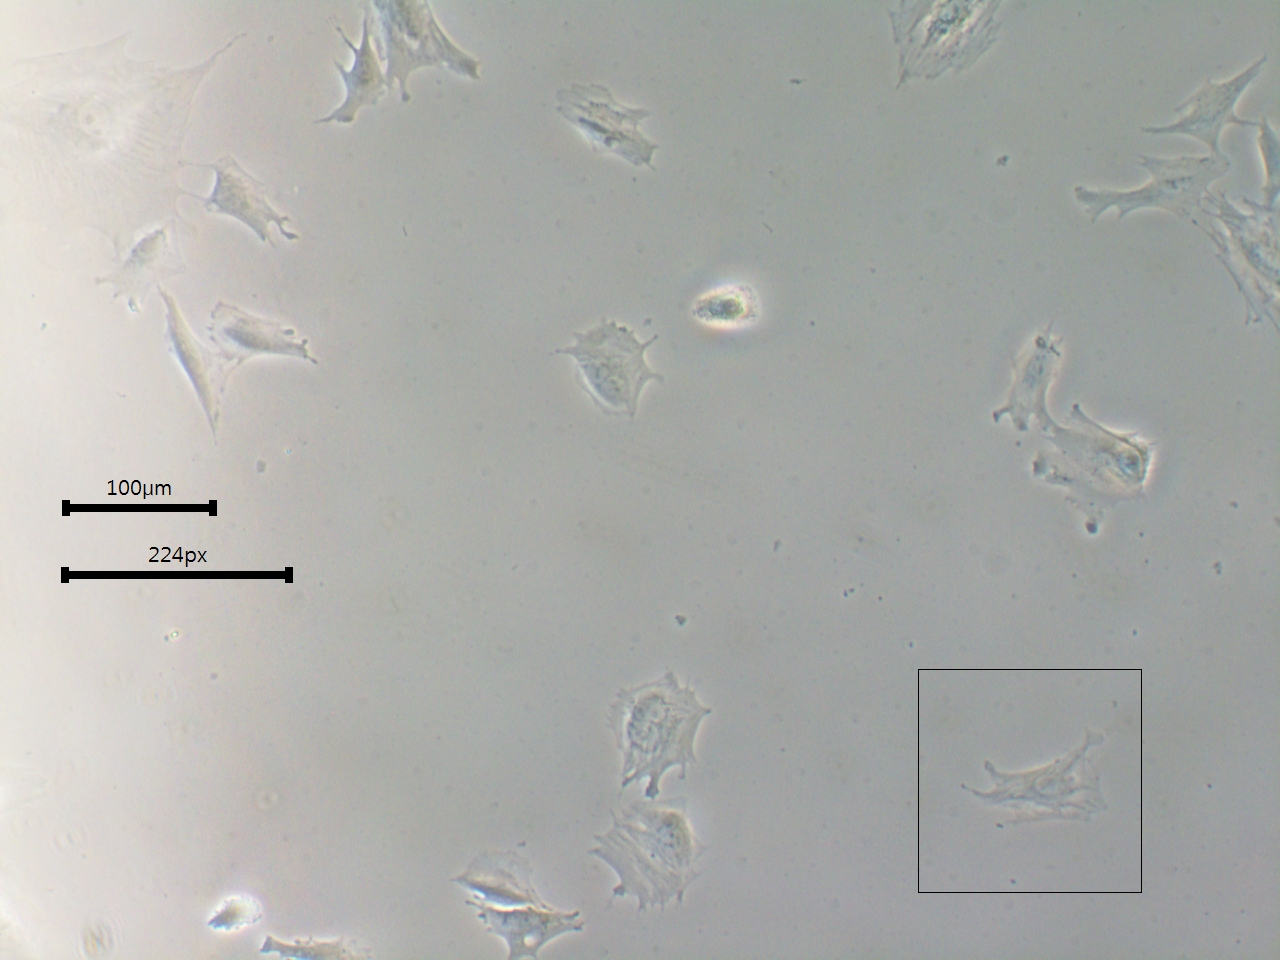dividing: (603, 677, 718, 797), (587, 804, 705, 920), (563, 306, 667, 427)
medium-spread: (1033, 410, 1160, 552), (956, 736, 1118, 838), (1060, 152, 1228, 225), (549, 80, 659, 179)
small-polygonal: (159, 301, 218, 441), (992, 336, 1063, 436), (335, 16, 386, 125)
small-spread: (205, 155, 303, 255), (103, 221, 183, 311), (209, 305, 330, 362)
